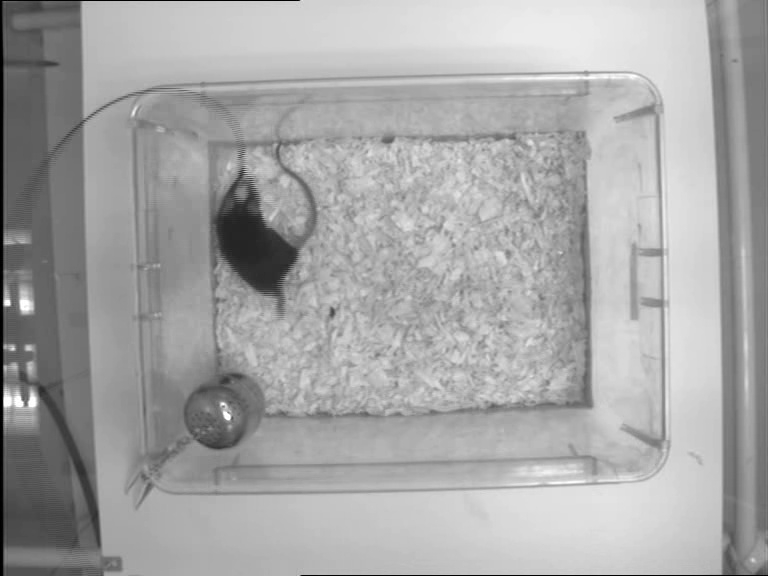mice: (213, 139, 319, 313)
